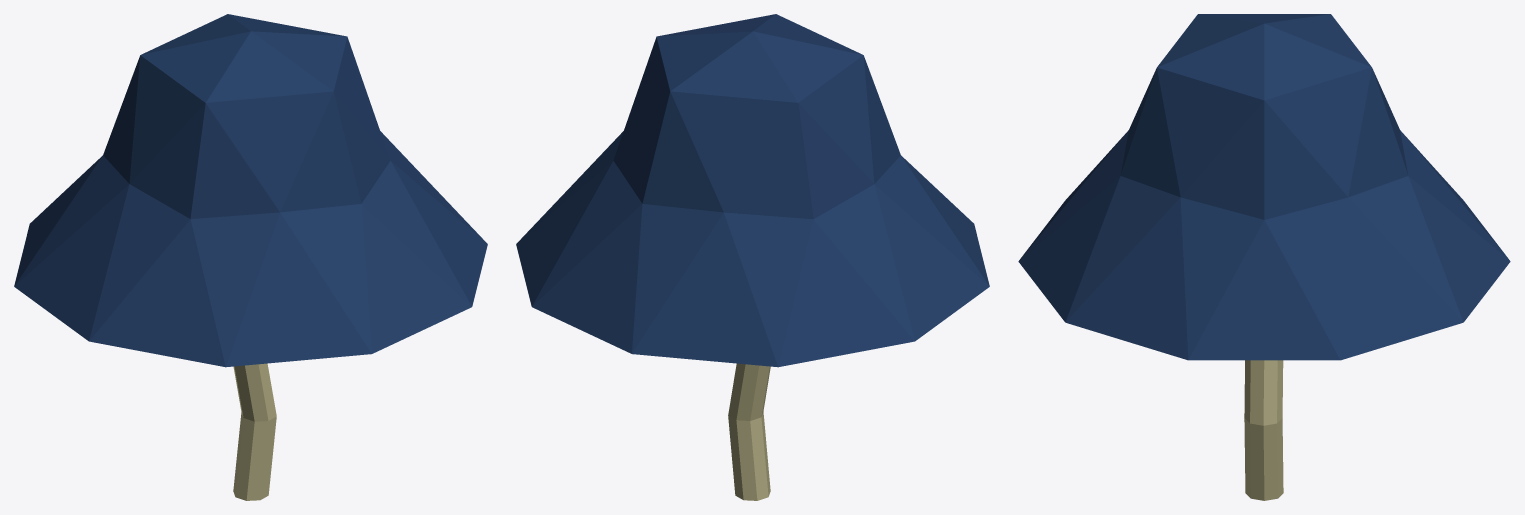
File: hat_mushroom_blue.fbx
The picture shows the model from 3 angles, left to right: view 1: azimuth 30°, elevation 25°; view 2: azimuth 150°, elevation 25°; view 3: azimuth 270°, elevation 25°; orthographic projection.
Visible parts, largest first — view 1: hat_mushroom_blue; view 2: hat_mushroom_blue; view 3: hat_mushroom_blue.
Boxes of the visible parts, bbox=[...] form: hat_mushroom_blue: bbox=[14, 14, 487, 500]; hat_mushroom_blue: bbox=[516, 14, 989, 500]; hat_mushroom_blue: bbox=[1018, 14, 1510, 500].
Size of the model in its own units: 74.49 by 82.43 by 78.32.
